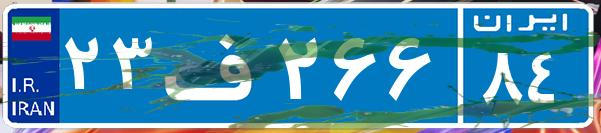2: (273, 28, 330, 110), (57, 26, 110, 107)
3: (110, 28, 158, 105)
4: (525, 38, 570, 115)
6: (385, 28, 445, 110), (330, 28, 385, 110)
8: (475, 38, 525, 113)
ف: (158, 15, 273, 115)
